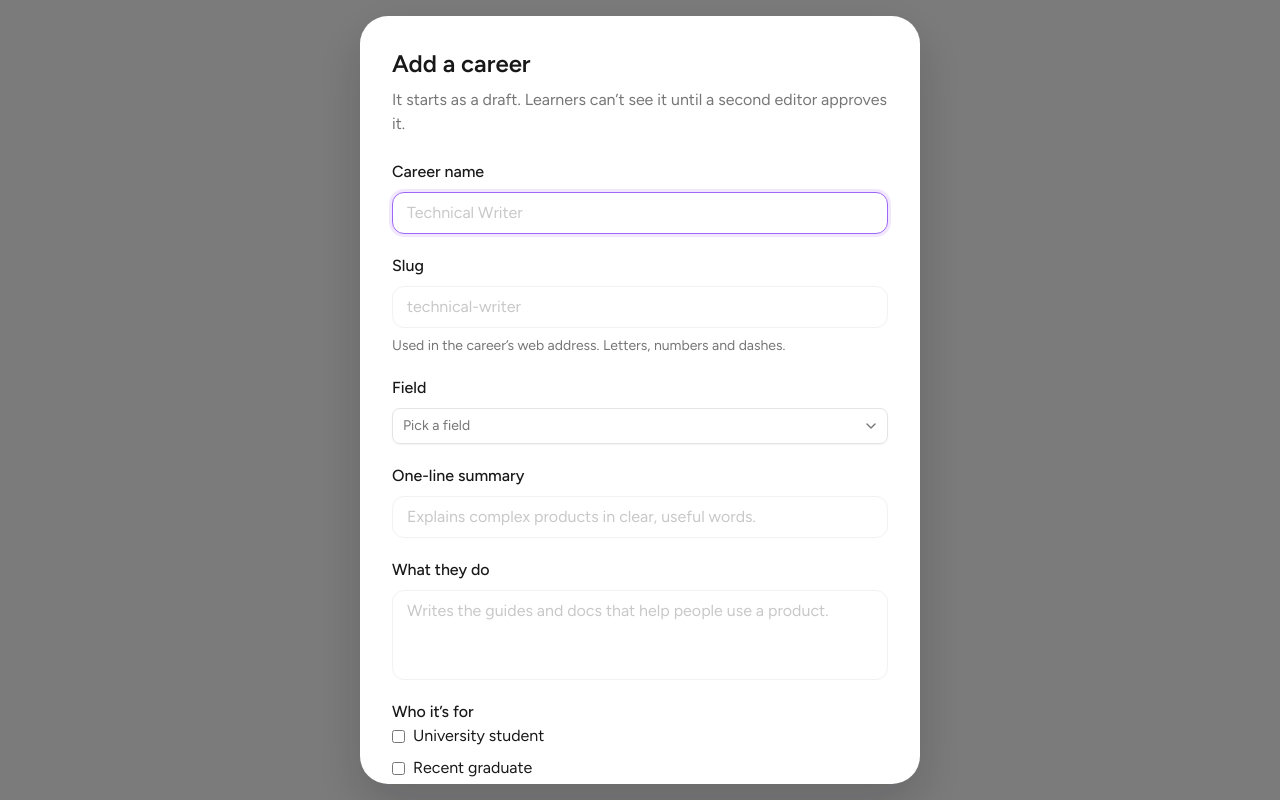
Test: AddCareerDialog › fills the slug from the name
In the field labelled "Career name": (640, 213) [392, 192, 888, 234], type "DevOps Engineer"
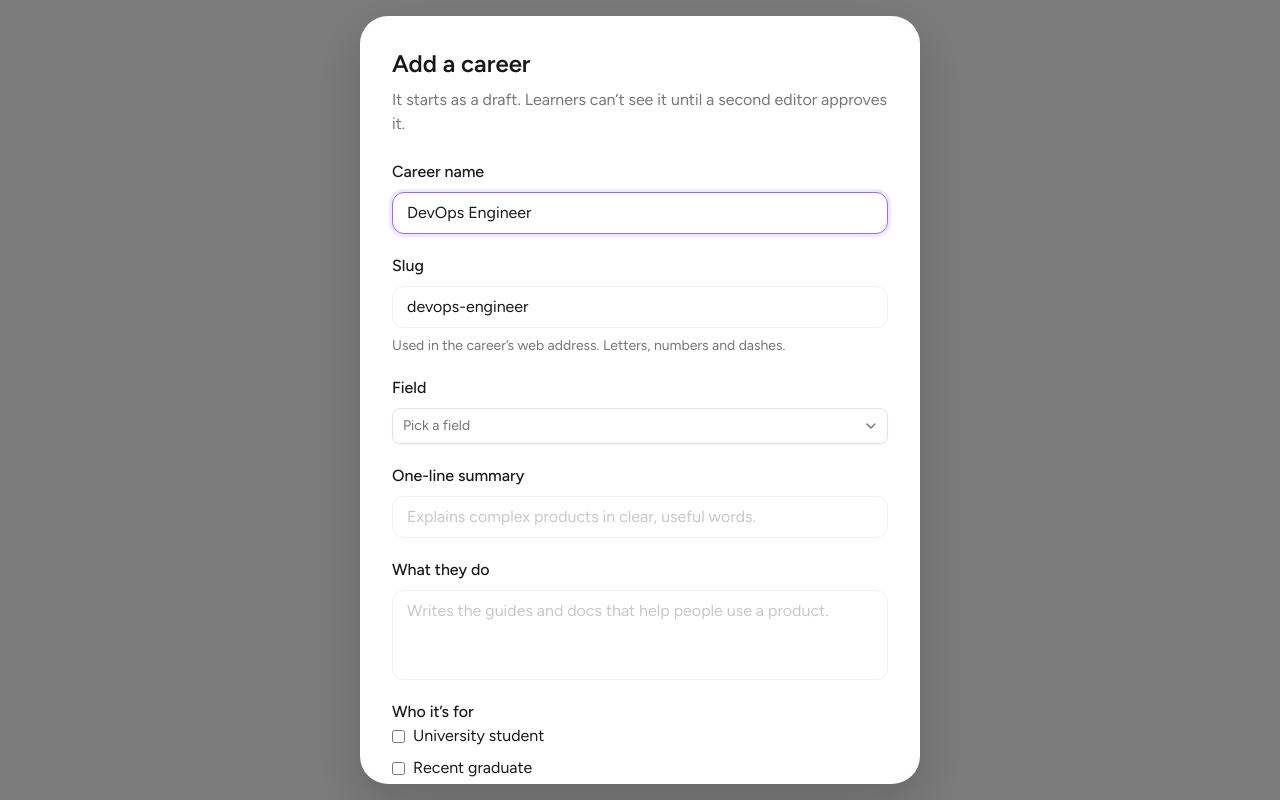
Check: the field labelled "Slug" holds "devops-engineer", box [392, 286, 888, 328]
